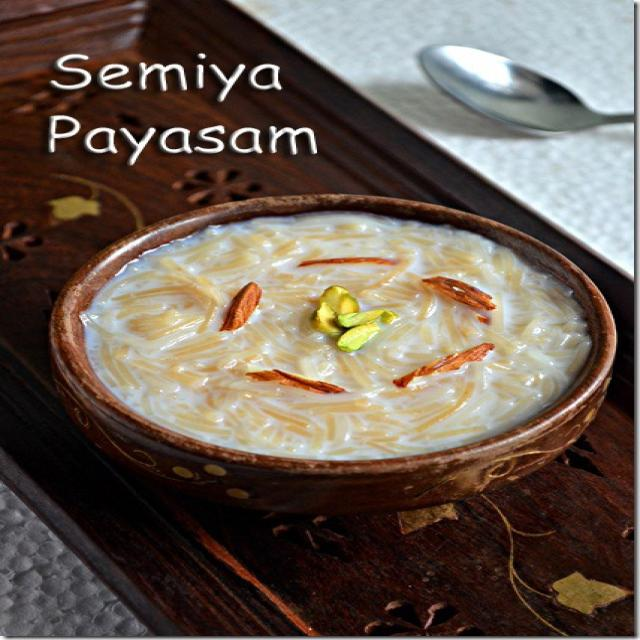shavige payasa: (66, 197, 620, 478)
